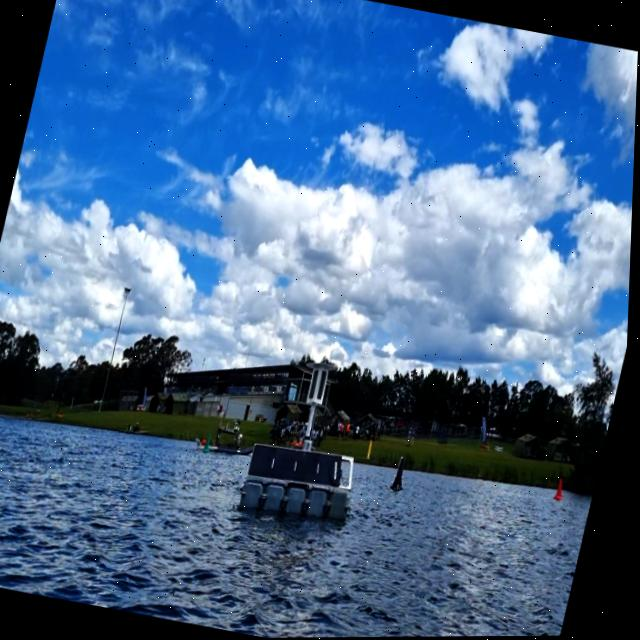led: (318, 370, 332, 403), (310, 369, 324, 401)
